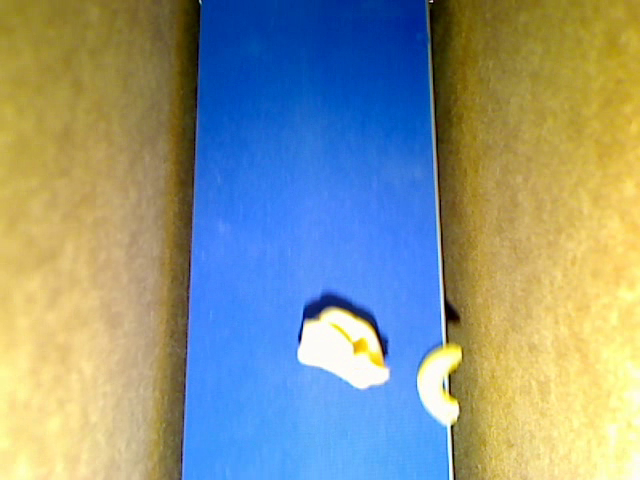elbow: (418, 341, 464, 426)
